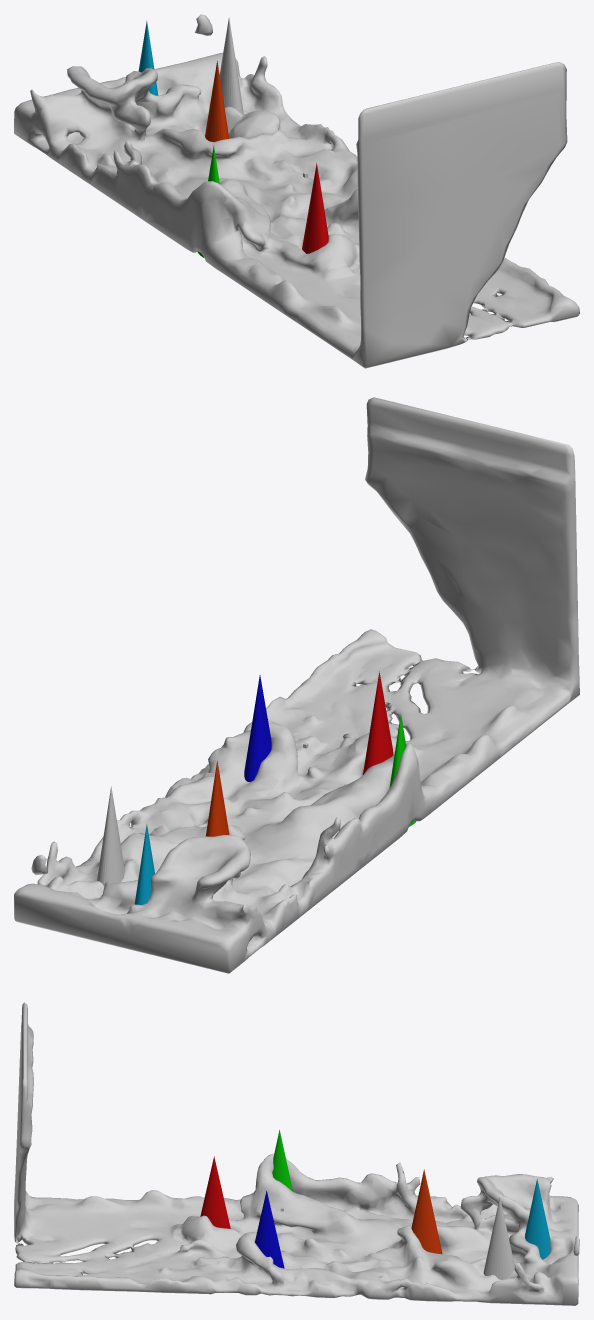
The picture shows the model from 3 angles, top to bottom: view 1: azimuth 30°, elevation 25°; view 2: azimuth 150°, elevation 25°; view 3: azimuth 270°, elevation 25°; orthographic projection. The views are drawn at different scales.
Visible parts, largest first — view 1: Liquid_Domain, 円錐.001, 円錐, 円錐.004, 円錐.005; view 2: Liquid_Domain, 円錐.002, 円錐, 円錐.001, 円錐.004, 円錐.005; view 3: Liquid_Domain, 円錐, 円錐.004, 円錐.005, 円錐.001, 円錐.002, 円錐.003.
Boxes of the visible parts, box(x1,y1,x2,y2) form: Liquid_Domain: box(14, 14, 579, 368); 円錐.001: box(302, 163, 328, 253); 円錐: box(219, 17, 243, 113); 円錐.004: box(205, 61, 229, 141); 円錐.005: box(138, 20, 158, 95); Liquid_Domain: box(14, 397, 579, 973); 円錐.002: box(244, 675, 271, 781); 円錐: box(97, 786, 124, 885); 円錐.001: box(363, 671, 393, 774); 円錐.004: box(206, 761, 229, 836); 円錐.005: box(134, 824, 154, 904); Liquid_Domain: box(14, 1002, 579, 1305); 円錐: box(483, 1197, 514, 1279); 円錐.004: box(411, 1169, 442, 1254); 円錐.005: box(525, 1179, 550, 1259); 円錐.001: box(200, 1156, 230, 1228); 円錐.002: box(255, 1190, 284, 1268); 円錐.003: box(272, 1130, 292, 1191).
Bounding box in the file's own units: 129 × 157 × 362.
